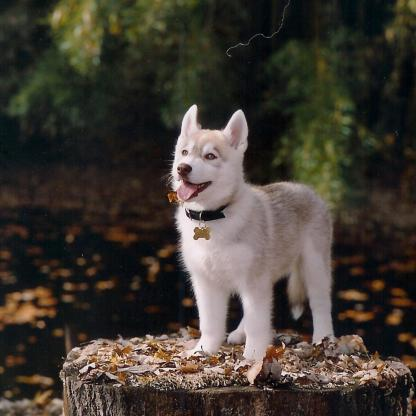husky: (165, 102, 339, 357)
